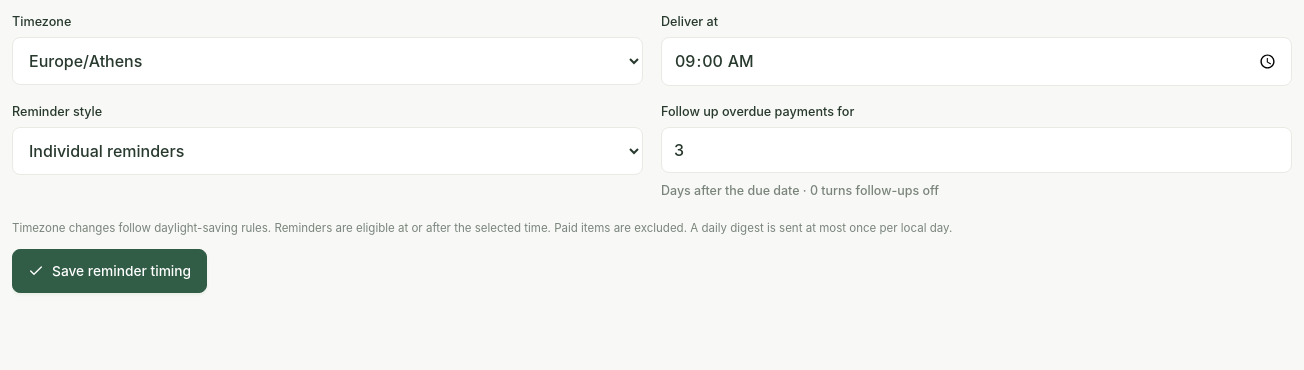
Test case: reminder preferences › persists a timezone, delivery time and daily digest without requesting permission
The image size is (1304, 370).
Select "America/New_York" in the dropdown labelled "Timezone" at (328, 61), box [12,37,643,85]
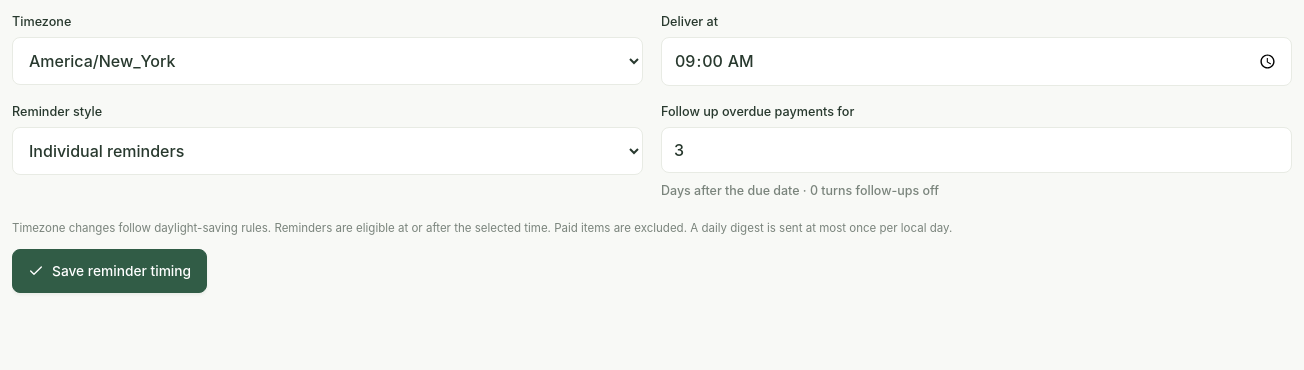
Replace the text in the time field labelled "Deliver at" with "18:30" at (976, 61), box [661,37,1292,86]
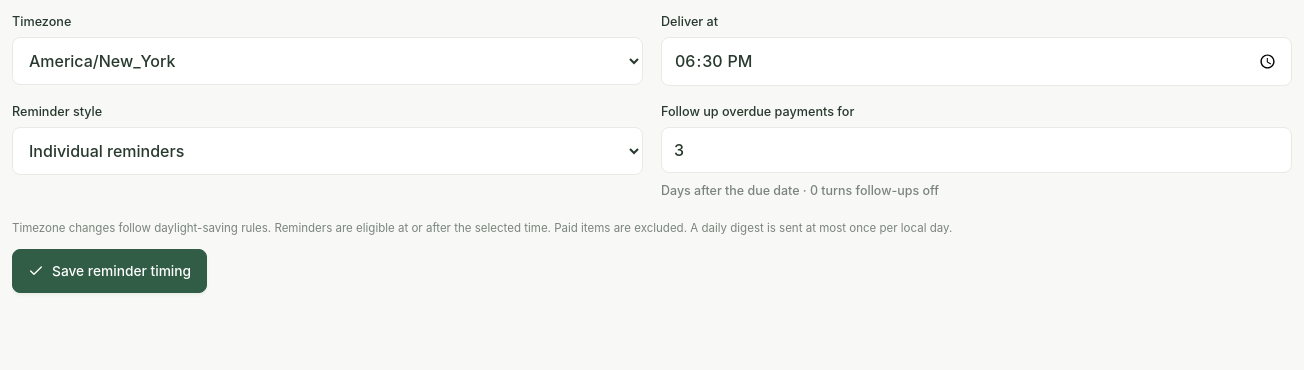
Select "One daily digest" in the dropdown labelled "Reminder style" at (328, 151), box [12,127,643,175]
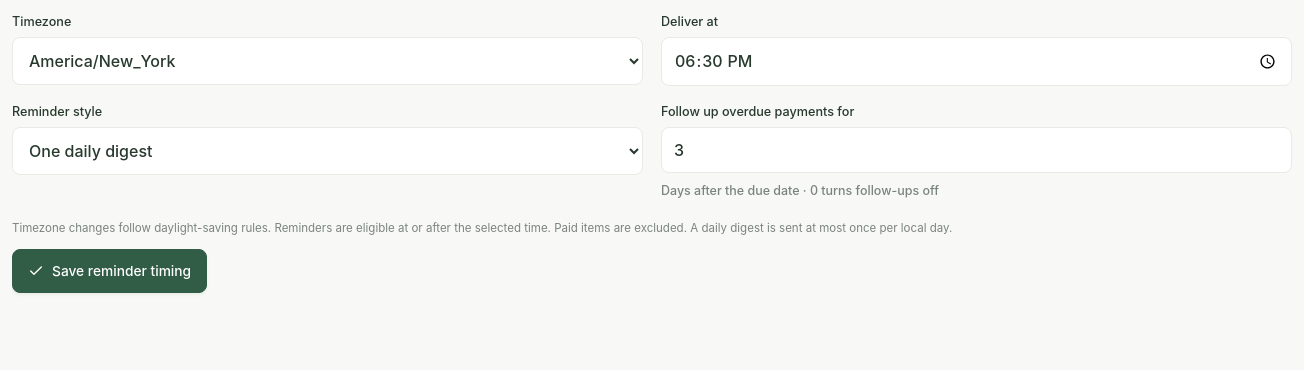
Click the button "Save reminder timing" at (110, 271), box [12,249,207,293]
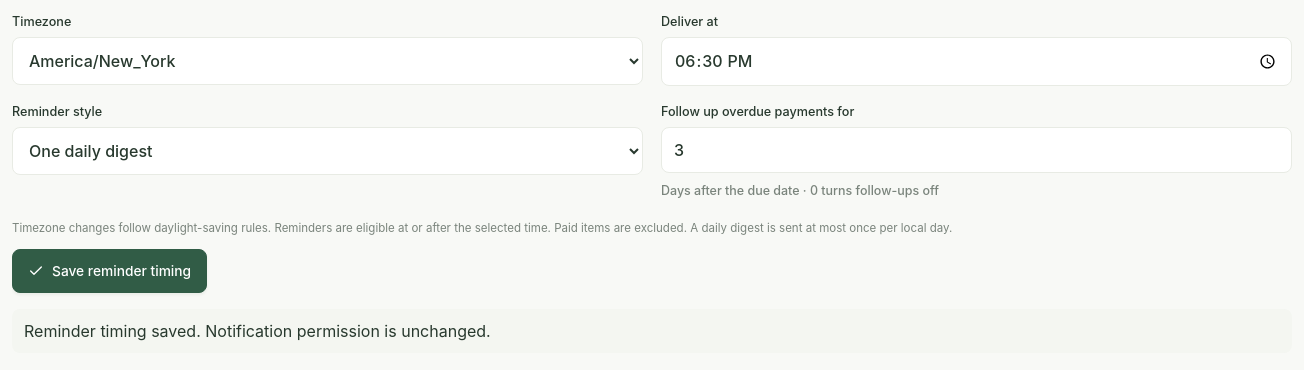
Expected: the text "Reminder timing saved. Notification permission is unchanged." is shown, [12,309,1292,353]
